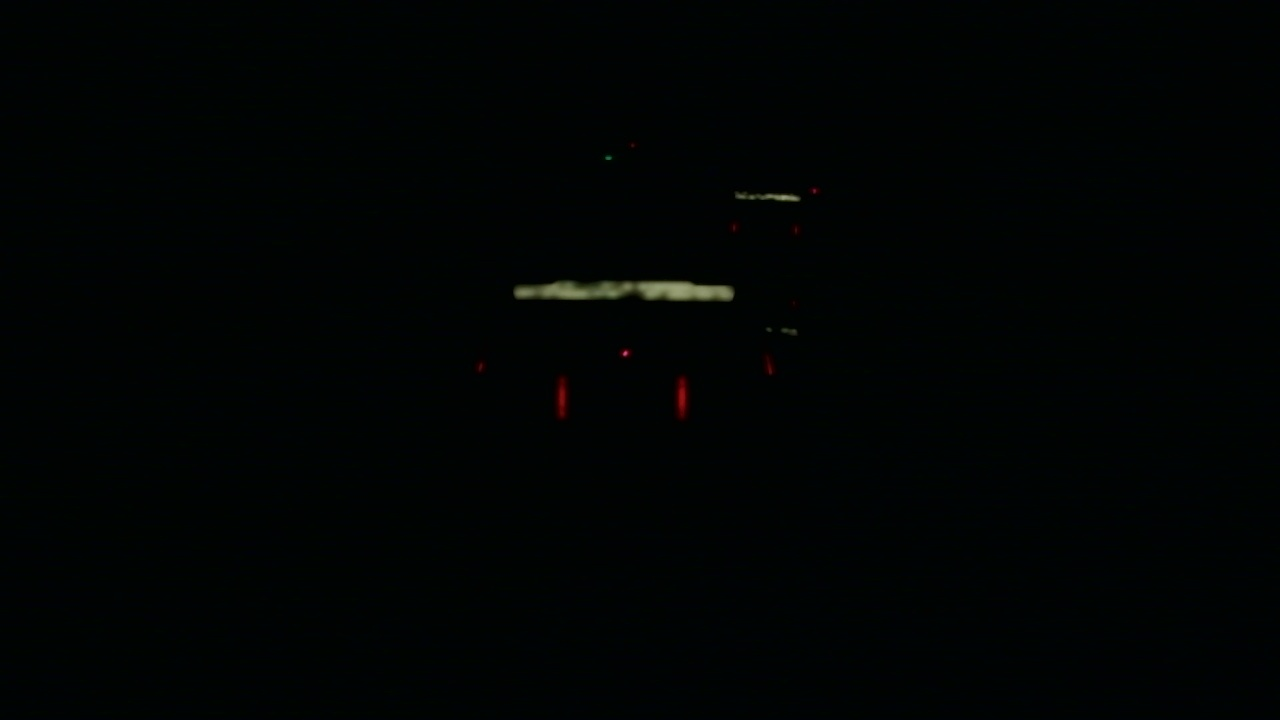lamp: (553, 374, 568, 418), (675, 375, 685, 421)
pair1: (556, 377, 687, 420)
